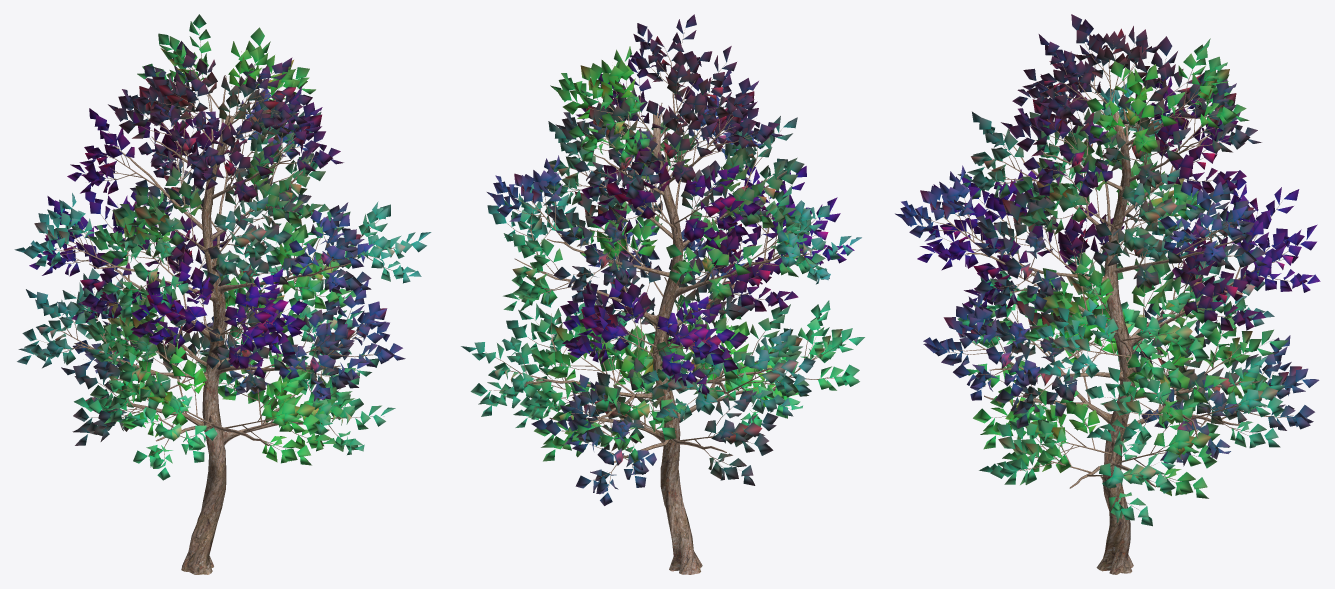
The model's file is M_MapleTree.fbx.
3 renders of one model, left to right at view 1: azimuth 30°, elevation 25°; view 2: azimuth 150°, elevation 25°; view 3: azimuth 270°, elevation 25°, orthographic. The views are drawn at different scales.
Visible parts, largest first — view 1: Tree_1, Tree_0; view 2: Tree_1, Tree_0; view 3: Tree_1, Tree_0.
Boxes of the visible parts, left/top/right/bottom form: Tree_1: left=14, top=14, right=431, bottom=480; Tree_0: left=33, top=29, right=402, bottom=574; Tree_1: left=461, top=14, right=864, bottom=505; Tree_0: left=479, top=32, right=853, bottom=574; Tree_1: left=895, top=14, right=1320, bottom=526; Tree_0: left=914, top=37, right=1305, bottom=574.
Bounding box in the file's own units: 413 × 527 × 371.
